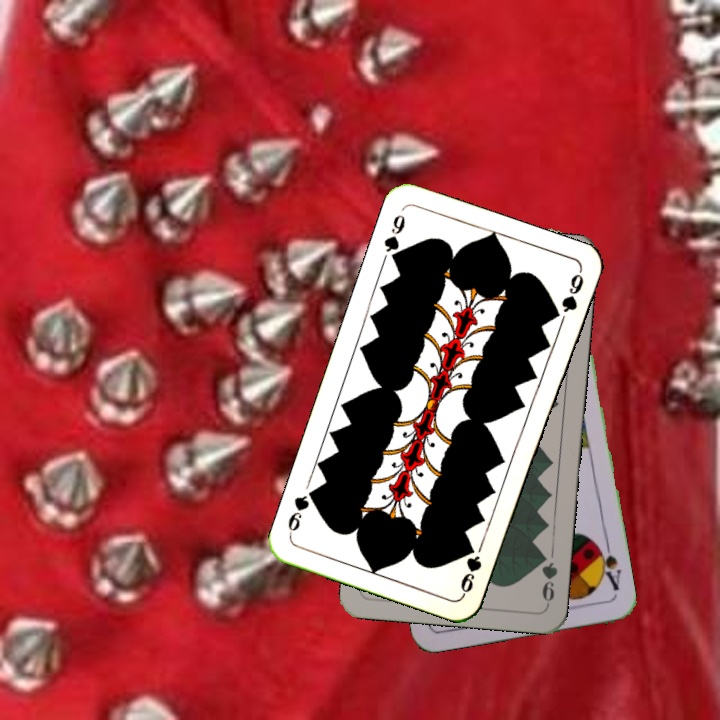G9: (456, 540, 485, 597), (380, 210, 408, 267), (536, 548, 560, 608)
SA: (592, 537, 624, 593)
